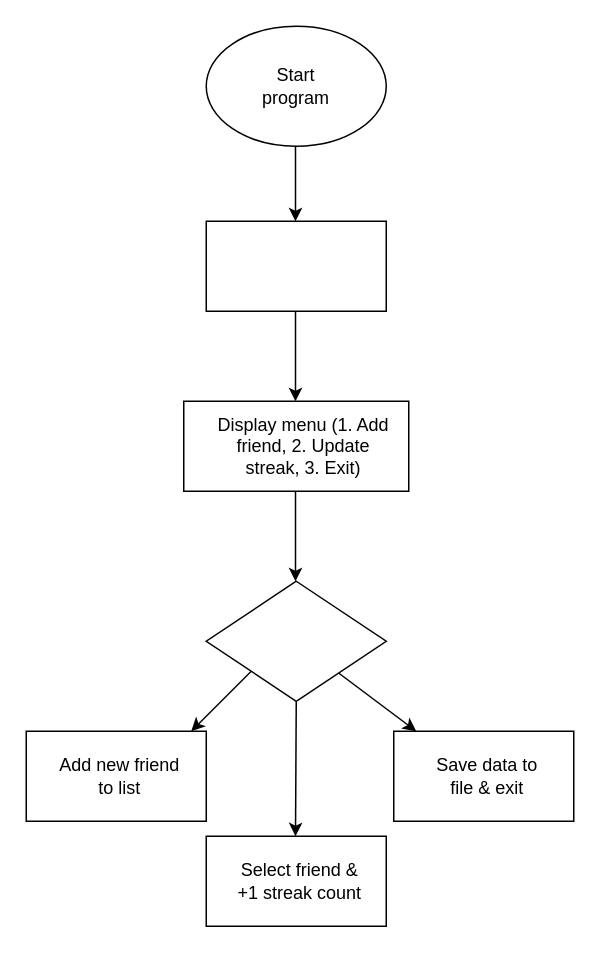
Some shapes in this 600 by 953 pixel diagram are drawn without their labels. Here are the shapes that lost their labels. From the top down, the centre of each, then its label:
At [295,265]: "Load friend data from file".
At [295,640]: "User choice?".
